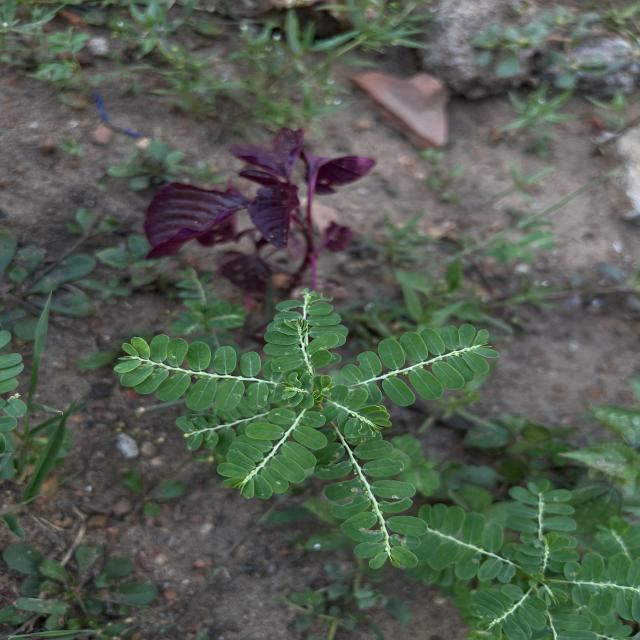Phyllanthus niruri: (320, 423, 430, 571), (340, 320, 500, 408), (214, 406, 329, 500), (261, 288, 351, 376), (320, 383, 395, 439)
